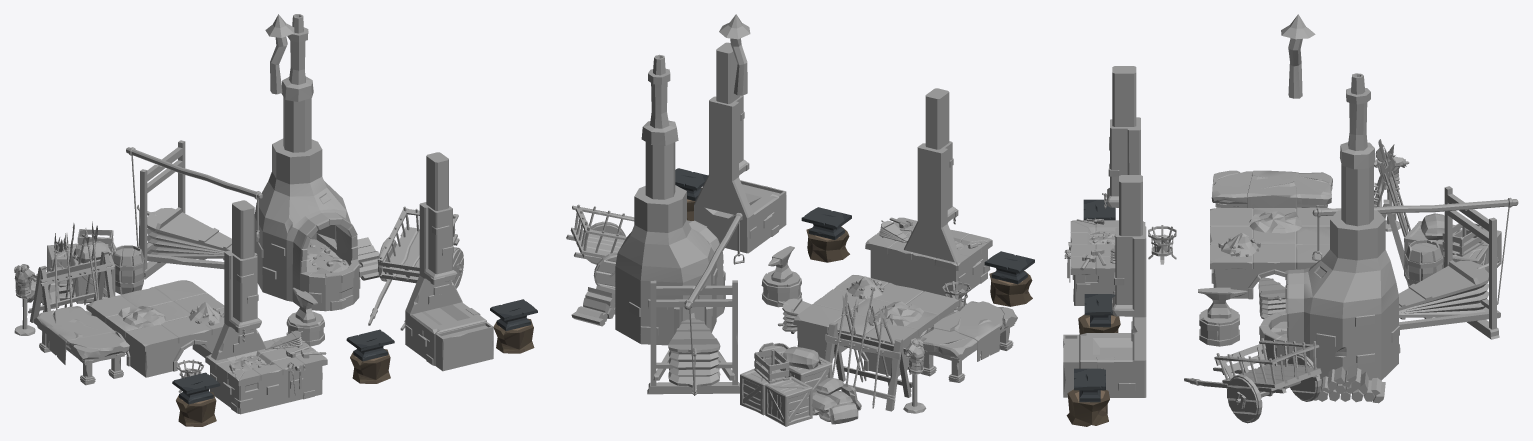
The model's file is BlacksmithHut.obj.
3 renders of one model, left to right at view 1: azimuth 30°, elevation 25°; view 2: azimuth 150°, elevation 25°; view 3: azimuth 270°, elevation 25°, orthographic. The views are drawn at different scales.
Parts seen in each view (by area): view 1: BlacksmithHut; view 2: BlacksmithHut; view 3: BlacksmithHut.
Boxes of the visible parts, x1,y1,x2,y2 form: BlacksmithHut: [14, 14, 537, 426]; BlacksmithHut: [566, 14, 1034, 426]; BlacksmithHut: [1063, 14, 1518, 426].
Size of the model in its own units: 12.95 by 9.13 by 11.46.
Materials: 2 (1 with a texture image).
